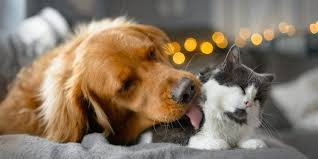cat: (185, 45, 280, 153)
dog: (13, 14, 206, 146)
